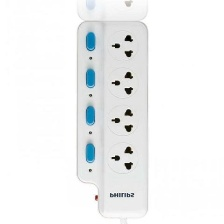three_eye_plug: (71, 18, 149, 220)
